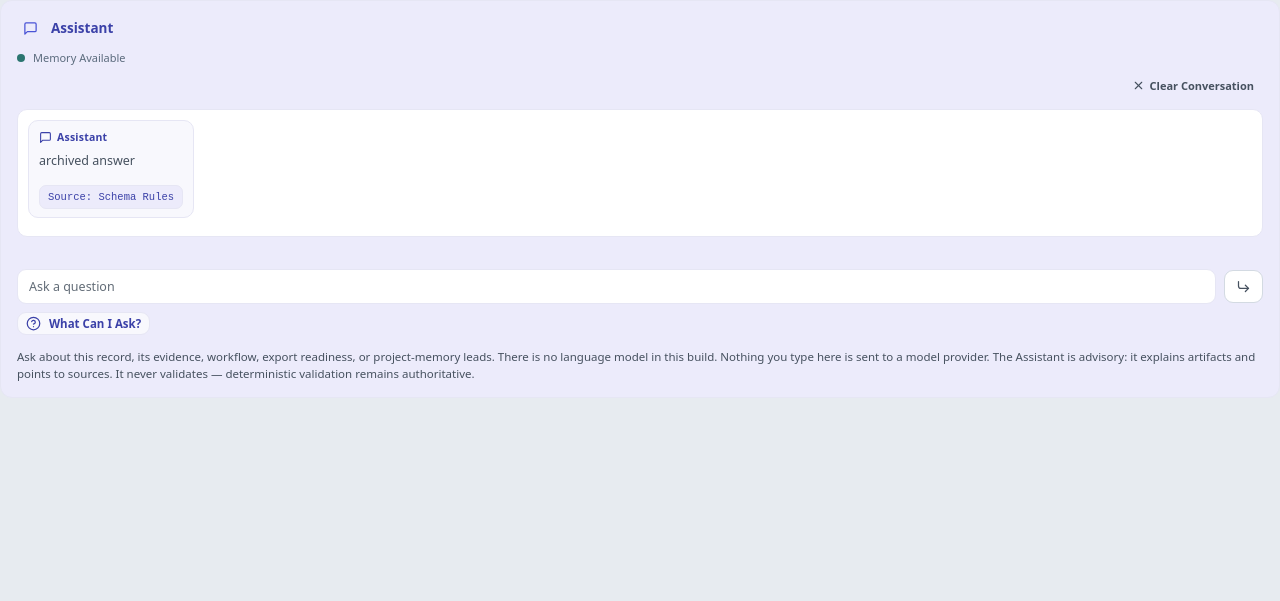
Test case: P36V S-A · the assistant answer bubble › provenance reads Title-Case "Source: <label>" inside the bubble, on BOTH the live and archived turns
The width and height of the screenshot is (1280, 601).
Type "what is this record?" into the field. click: (616, 286)
box: x1=17 y1=269 x2=1216 y2=304
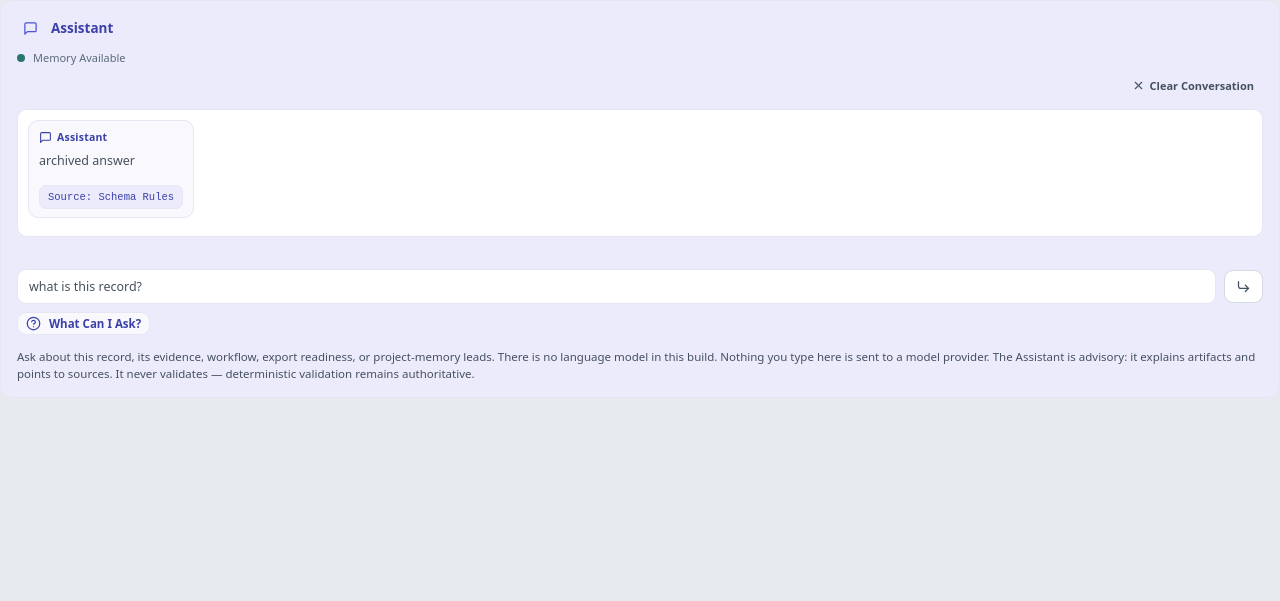
Submit the form, box x1=17 y1=269 x2=1263 y2=304
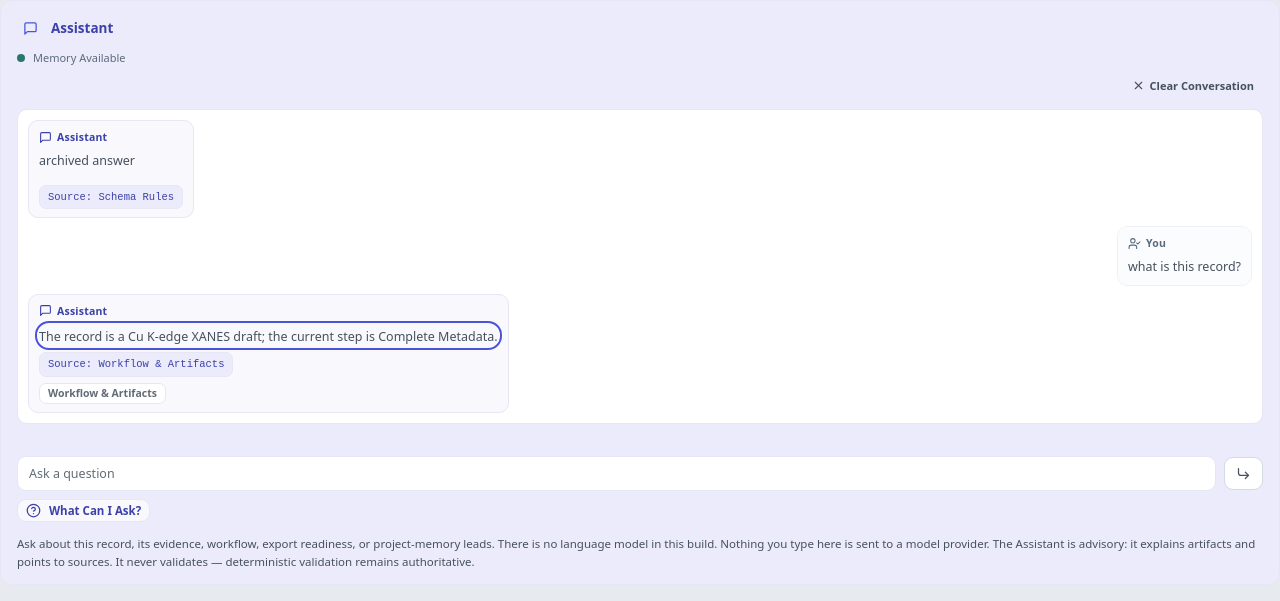
Expected: the text "Source: Workflow & Artifacts" is shown, x1=39 y1=352 x2=234 y2=376
